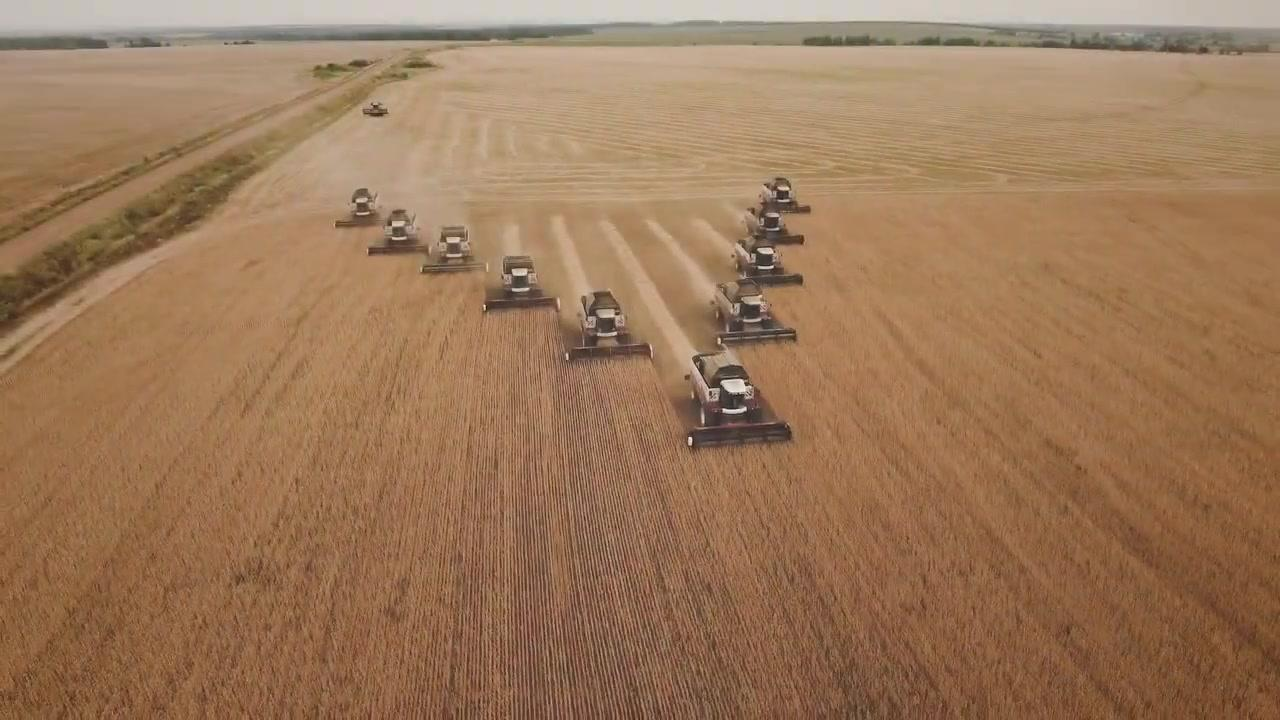combine harvester: (678, 341, 800, 459), (560, 286, 658, 372), (709, 273, 803, 345), (482, 251, 564, 318), (417, 219, 494, 281), (726, 232, 808, 288), (368, 206, 437, 259), (737, 202, 809, 248), (334, 181, 388, 228), (756, 175, 816, 213), (360, 98, 390, 121)
